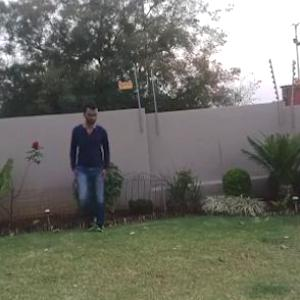follow: (70, 100, 116, 232)
